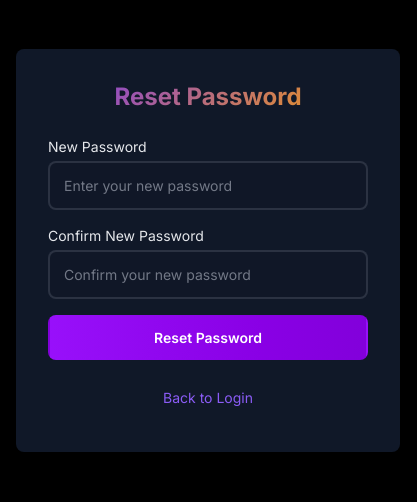
it: ResetPasswordClient › handles API error during password reset
The image size is (417, 502).
In the password field labelled "New Password": (208, 185) [48,160,368,210], type "newpassword123"
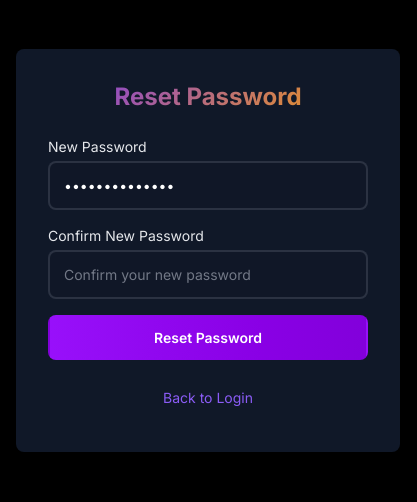
In the password field labelled "Confirm New Password": (208, 274) [48,250,368,298], type "newpassword123"
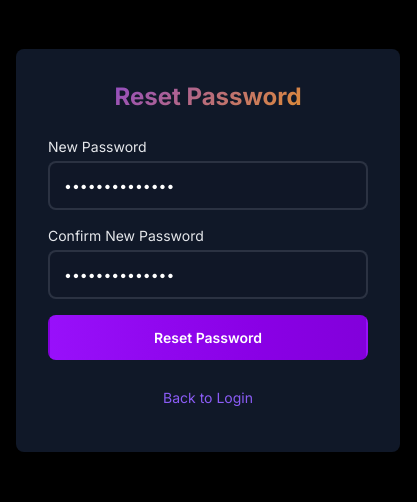
Click the button "Reset Password": (208, 337) [48,314,368,360]
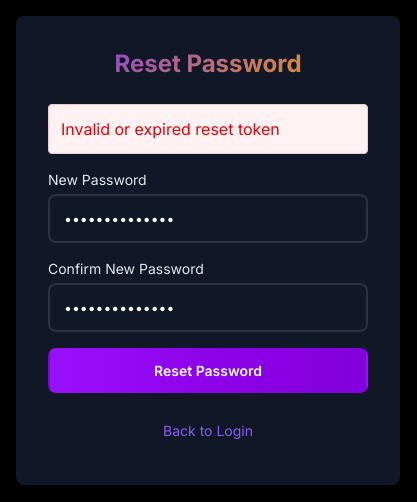
Expected: the text "Invalid or expired reset token" is shown, [48,104,368,154]
